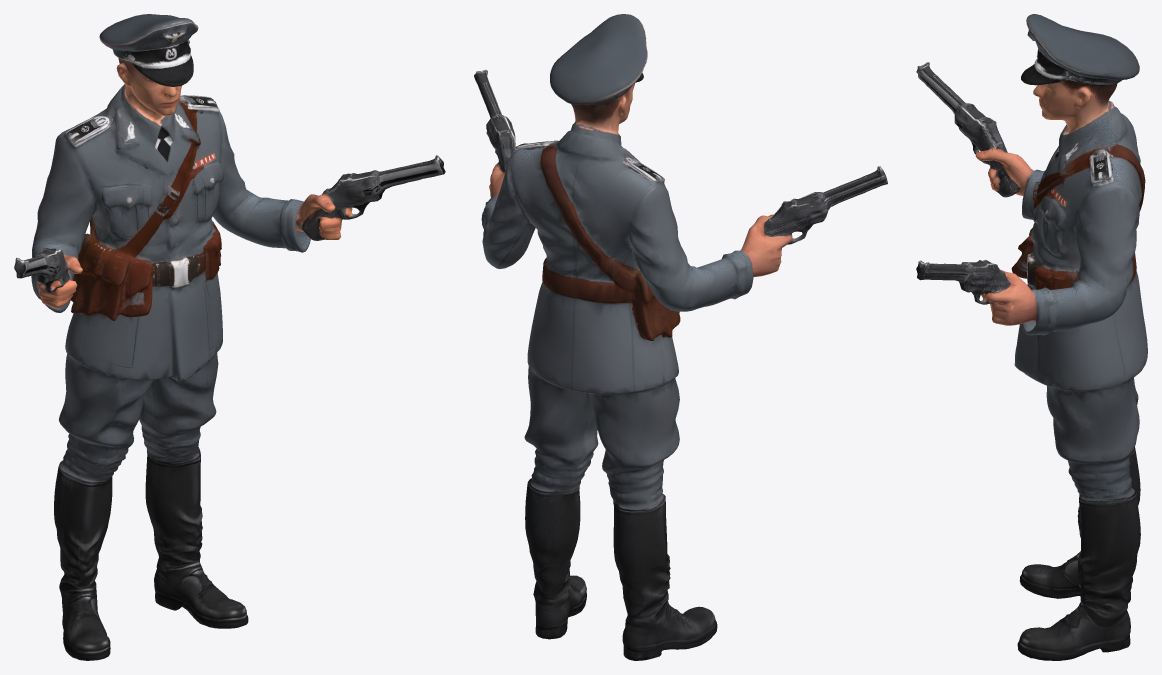
Rendered from officer.glb.
3 views of the same model, side by side, from view 1: azimuth 30°, elevation 25°; view 2: azimuth 150°, elevation 25°; view 3: azimuth 270°, elevation 25° (orthographic). The views are drawn at different scales.
Bounding box in the file's own units: 1.38 × 1.91 × 0.6595.
Materials: 1 (1 with a texture image).
